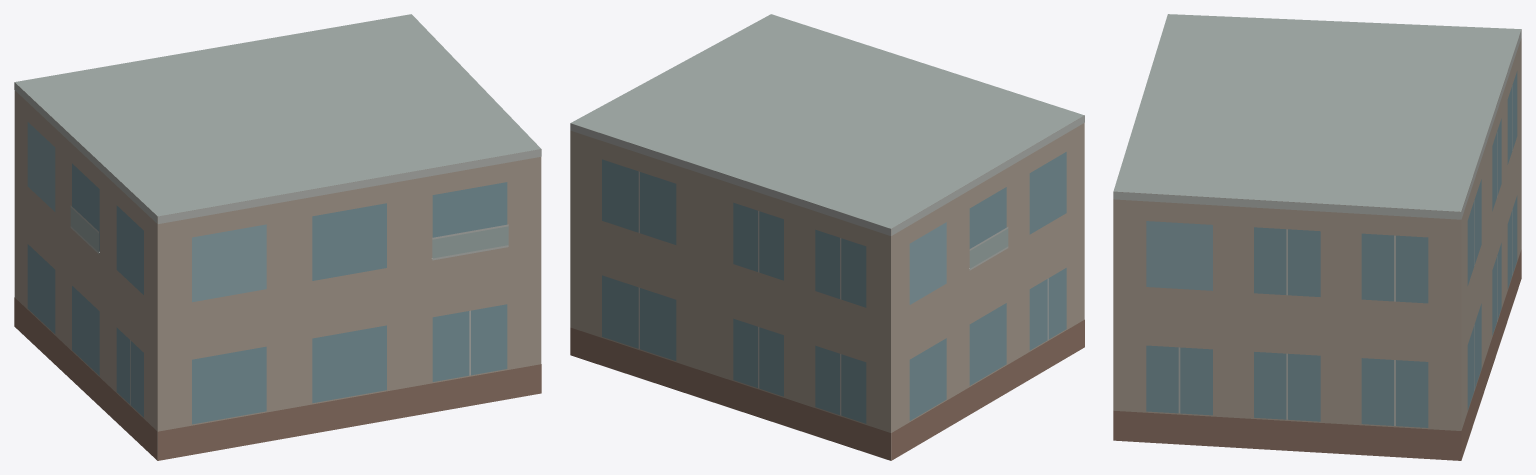
Rendered from survey-upis-32498424.glb.
The picture shows the model from 3 angles, left to right: view 1: azimuth 30°, elevation 25°; view 2: azimuth 150°, elevation 25°; view 3: azimuth 270°, elevation 25°; orthographic projection. The views are drawn at different scales.
Visible parts, largest first — view 1: survey-upis-32498424.tmp; view 2: survey-upis-32498424.tmp; view 3: survey-upis-32498424.tmp.
Part boxes in pixels (x1,y1,x2,y2): survey-upis-32498424.tmp: [14, 14, 541, 460]; survey-upis-32498424.tmp: [570, 14, 1084, 460]; survey-upis-32498424.tmp: [1113, 14, 1521, 460].
Bounding box in the file's own units: 13.13 × 7.7 × 11.45.
